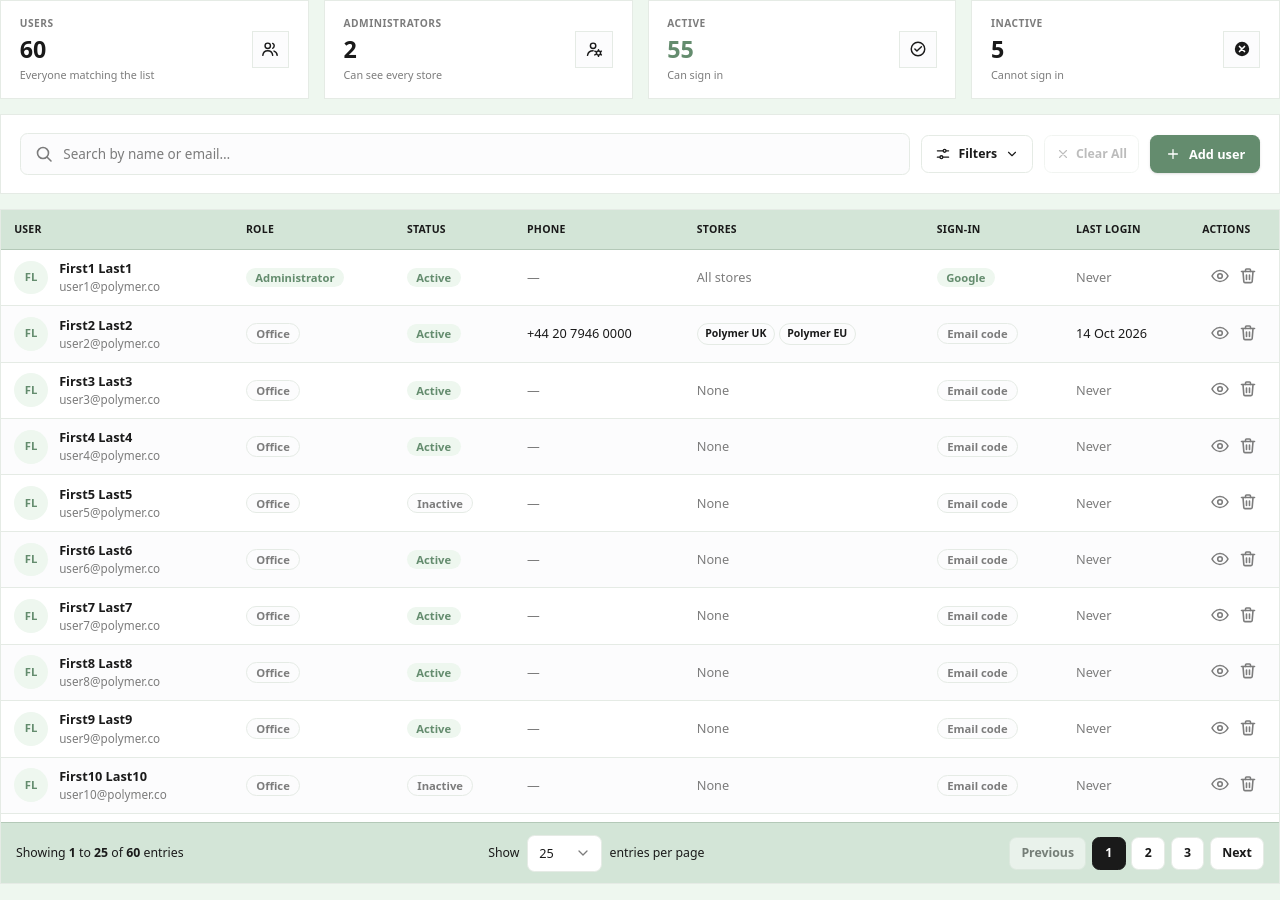
Scenario: UsersPage › list › pages with the shared pagination (and prefetch-free cache on revisit)
Expected: the text "First2 Last2" is shown, [59,316,132,334]
Click the button "2": click(1148, 854) [1131,837,1165,870]
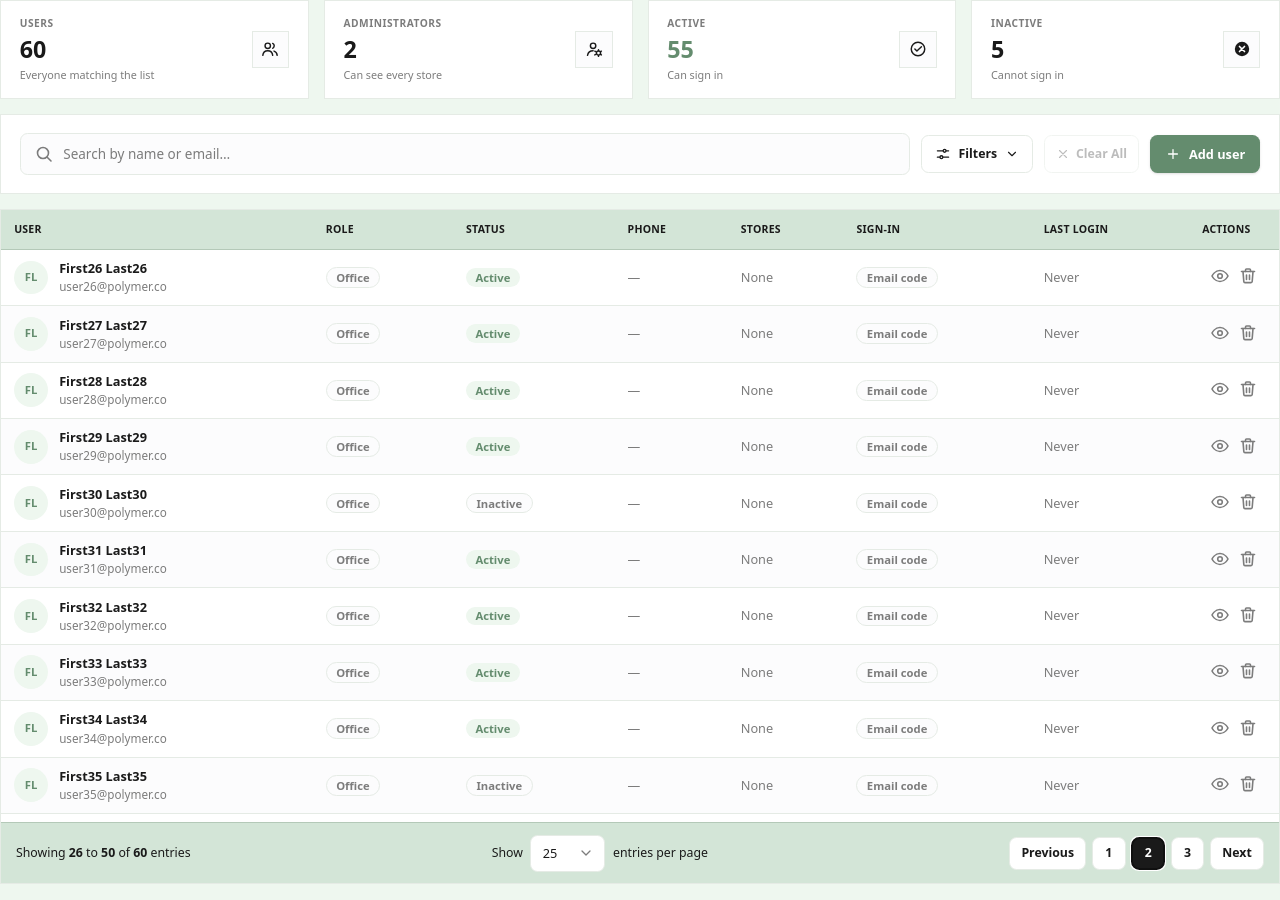
Expected: the text "First26 Last26" is shown, [59,259,147,277]
Expected: the text "Showing 26 to 50 of 60 entries" is shown, [16,844,191,863]
Back to page 1: served from the cache, no extra request.
Click the button named "Page 1": click(1109, 854) [1092,837,1126,870]
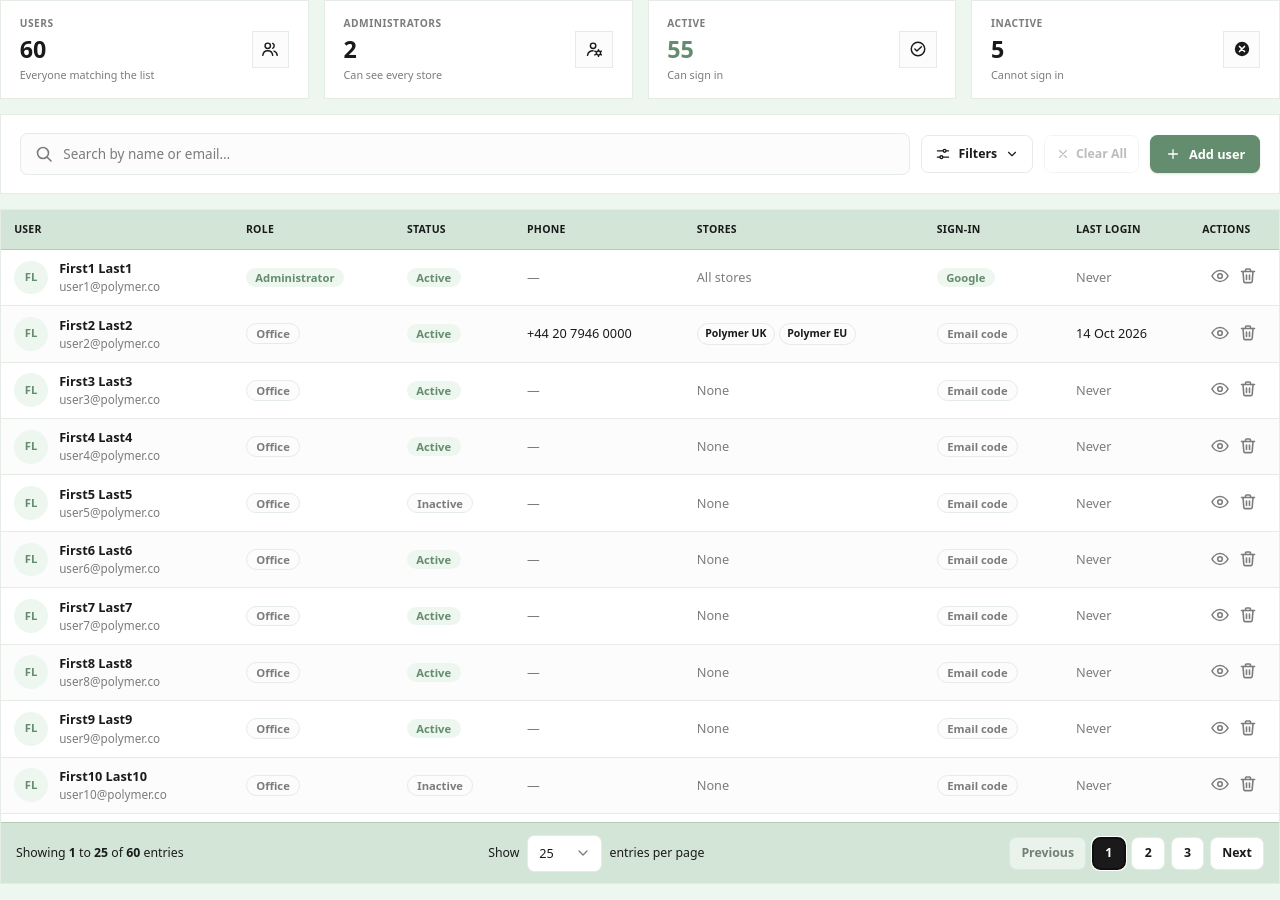
Expected: the text "First2 Last2" is shown, [59,316,132,334]
